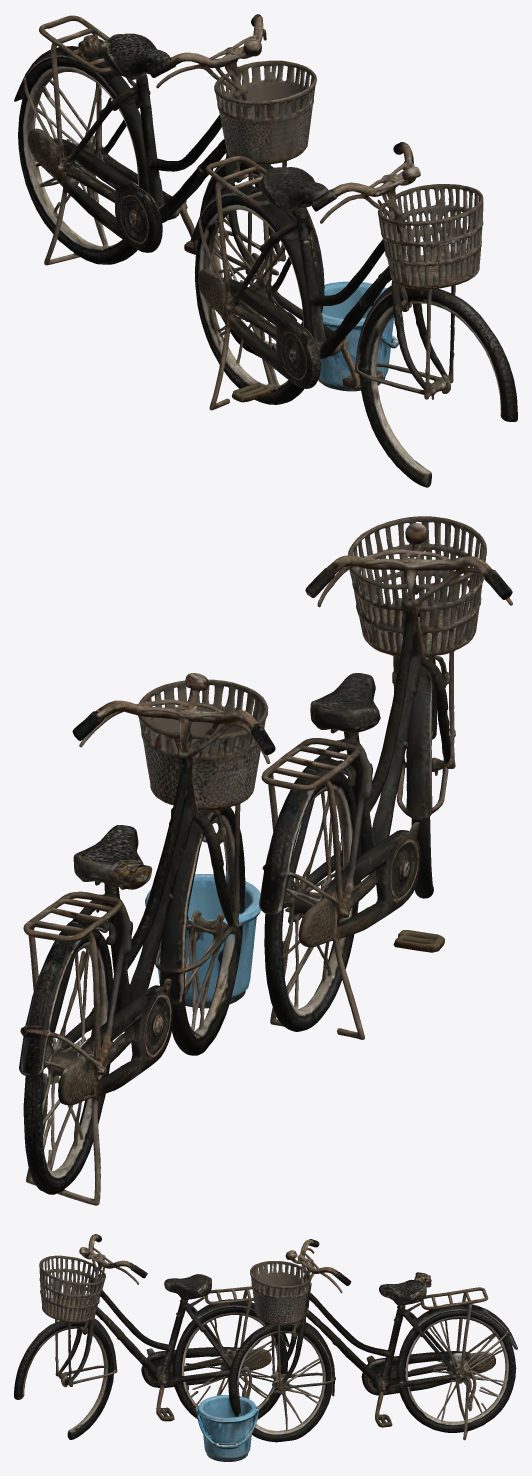
Rendered from alley.glb.
3 views of the same model, one above another, from view 1: azimuth 30°, elevation 25°; view 2: azimuth 150°, elevation 25°; view 3: azimuth 270°, elevation 25° (orthographic). The views are drawn at different scales.
Visible parts, largest first — view 1: tripo_node_01295cbf-6ff5-4fa2-b43c-780a89196706; view 2: tripo_node_01295cbf-6ff5-4fa2-b43c-780a89196706; view 3: tripo_node_01295cbf-6ff5-4fa2-b43c-780a89196706.
Part boxes in pixels (left/top/right/bottom): tripo_node_01295cbf-6ff5-4fa2-b43c-780a89196706: left=14, top=14, right=517, bottom=487; tripo_node_01295cbf-6ff5-4fa2-b43c-780a89196706: left=19, top=516, right=512, bottom=1205; tripo_node_01295cbf-6ff5-4fa2-b43c-780a89196706: left=14, top=1234, right=517, bottom=1461.
Size of the model in its own units: 0.277 by 0.4212 by 0.9998.
1 material, 1 textured.
